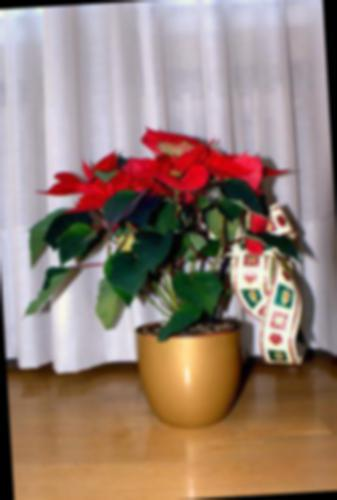Matera: (23, 108, 318, 442)
